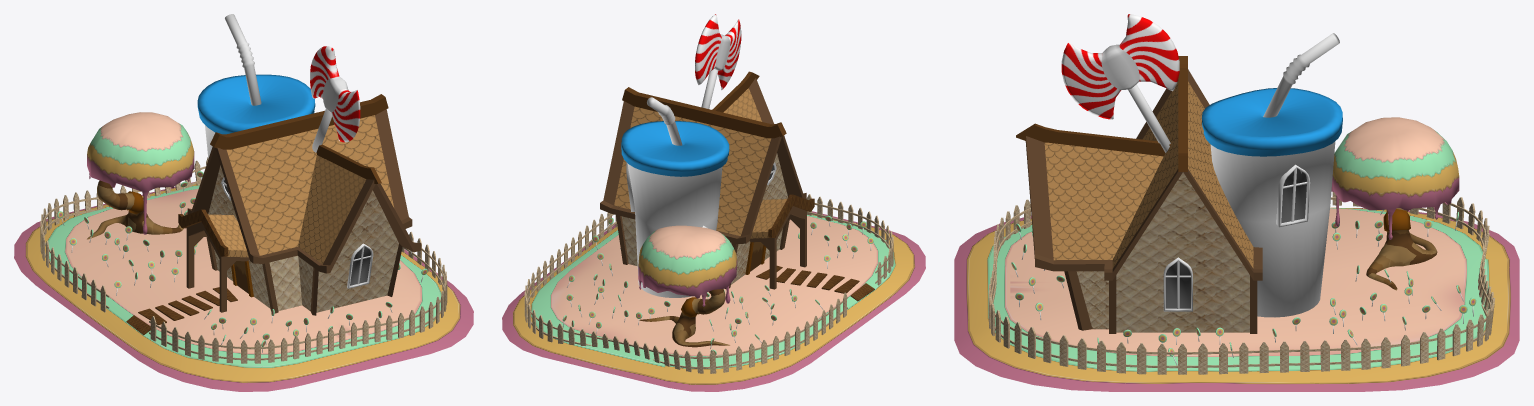
The model's file is candy_house.glb.
3 views of the same model, side by side, from view 1: azimuth 30°, elevation 25°; view 2: azimuth 150°, elevation 25°; view 3: azimuth 270°, elevation 25° (orthographic). The views are drawn at different scales.
Visible parts, largest first — view 1: Plane; view 2: Plane; view 3: Plane.
Part boxes in pixels (x1,y1,x2,y2): Plane: (14, 14, 473, 391); Plane: (502, 14, 925, 391); Plane: (954, 14, 1519, 391).
Size of the model in its own units: 2623 by 2071 by 3407.
Materials: 18 (9 with a texture image).
